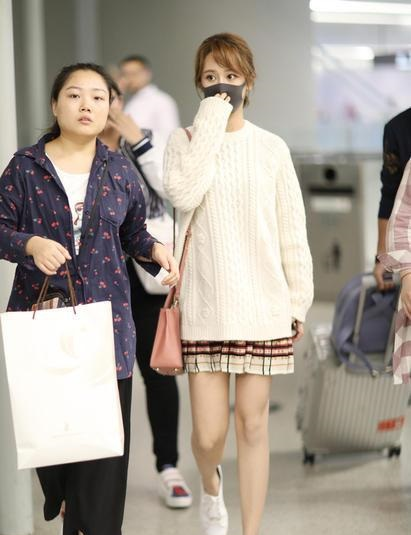face: (58, 72, 108, 136), (120, 63, 143, 97)
face_mask: (200, 52, 244, 115)
